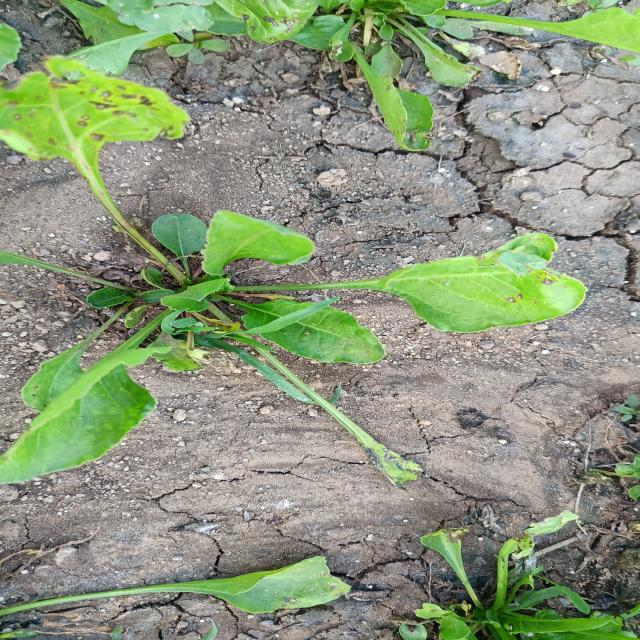leaves: (1, 56, 256, 321), (5, 284, 249, 489), (243, 237, 640, 362), (184, 198, 326, 303)
